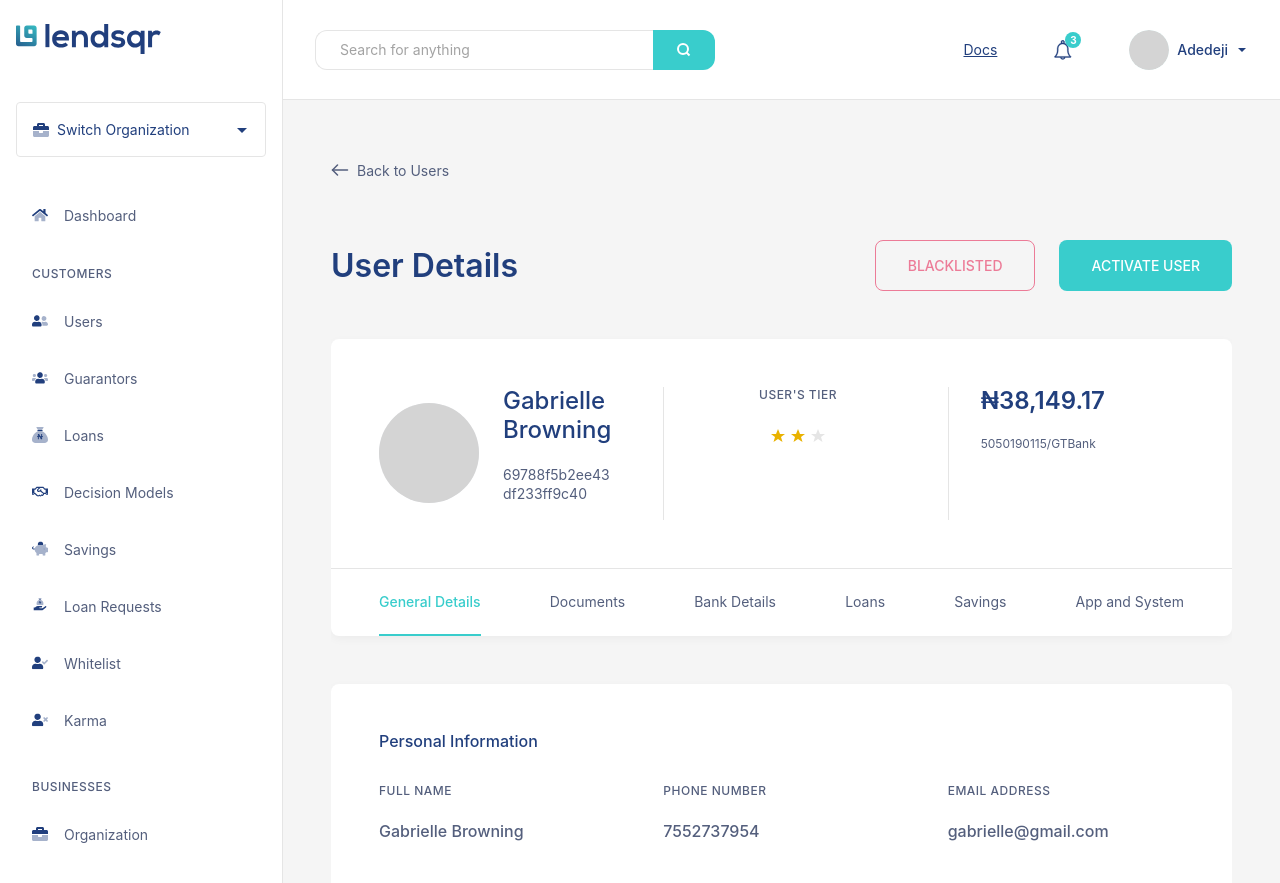
Scenario: UserDetails Page › should activate user when activate button is clicked
Expected: the heading "Gabrielle Browning" is shown, left=503, top=387, right=615, bottom=445
What coordinates should you click on to do the following:
click the button "ACTIVATE USER"
I would click on:
 (1146, 266)
Its box is left=1060, top=240, right=1232, bottom=291.
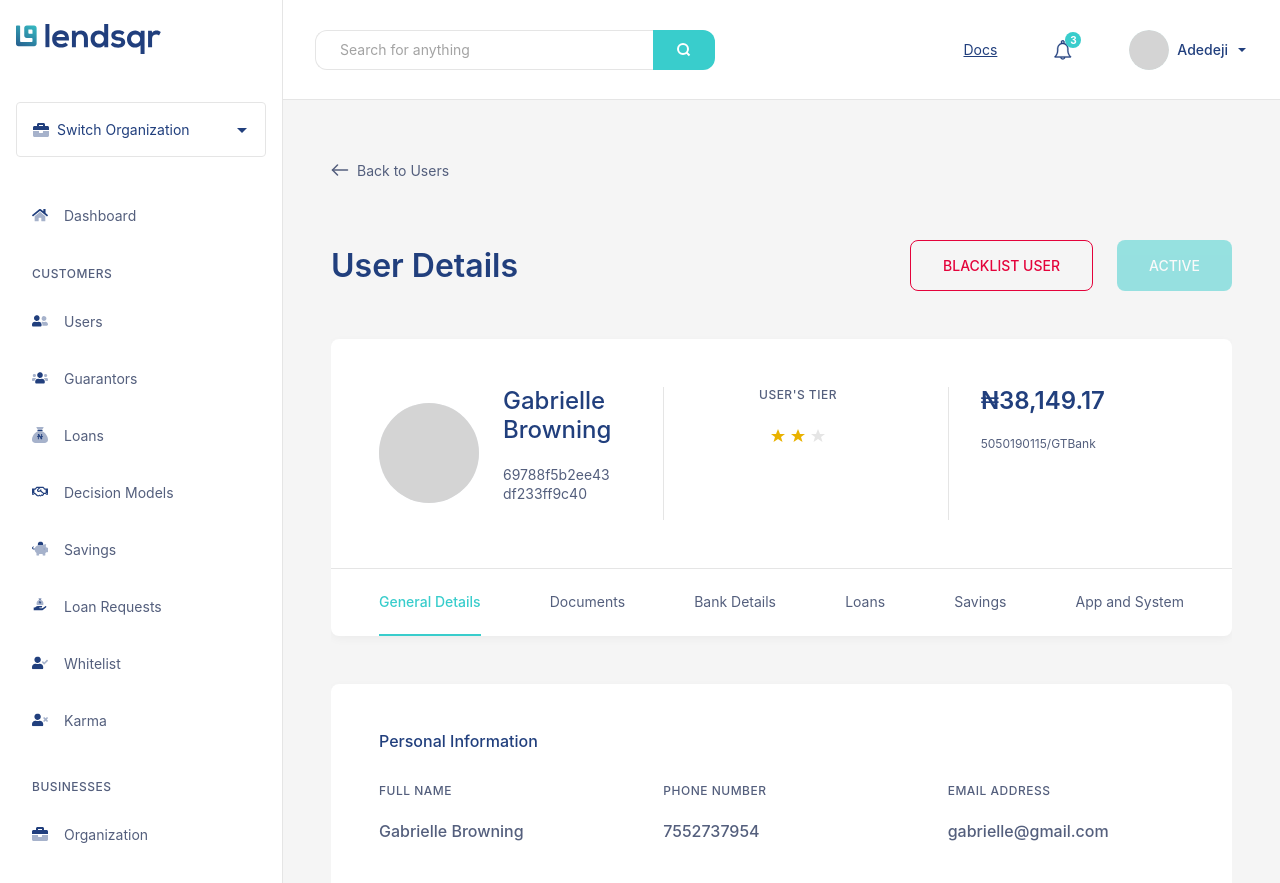
Result: the button "ACTIVE" is disabled at left=1117, top=240, right=1232, bottom=291
